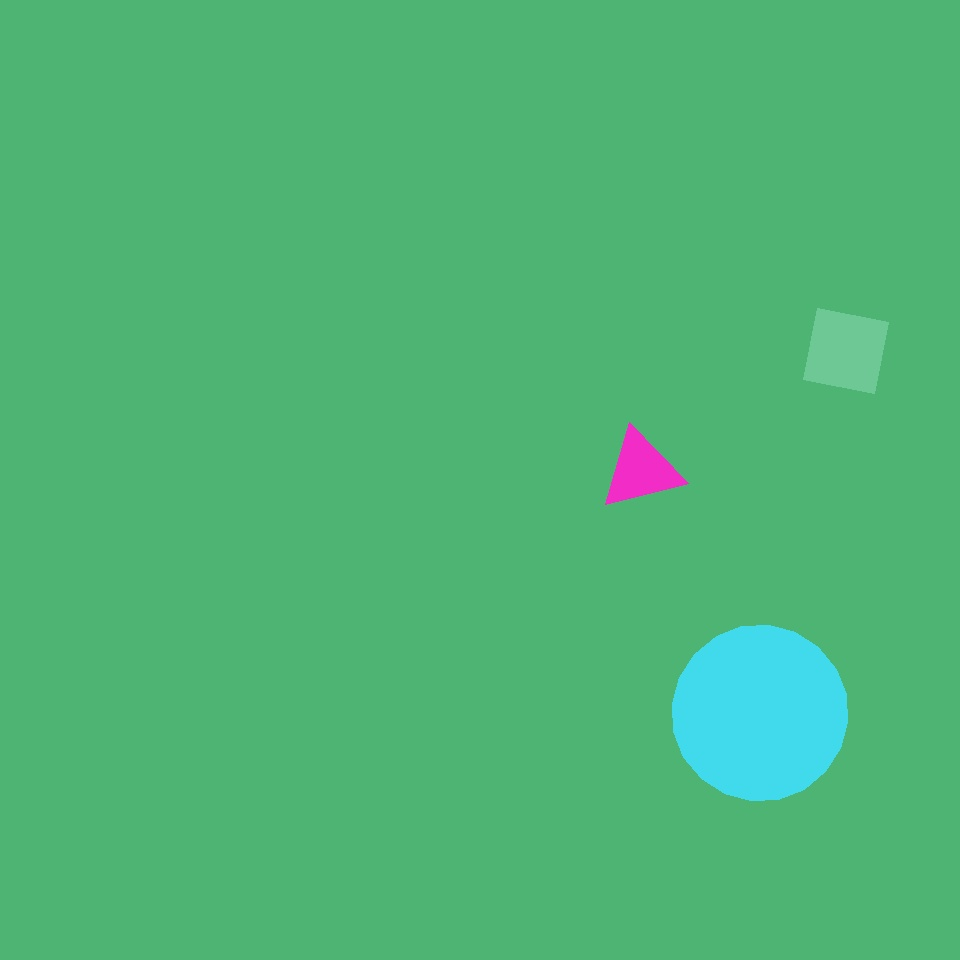circle: (600, 429, 682, 511)
square: (804, 308, 888, 393)
triangle: (672, 625, 848, 800), (732, 756, 900, 923), (224, 43, 356, 176)
